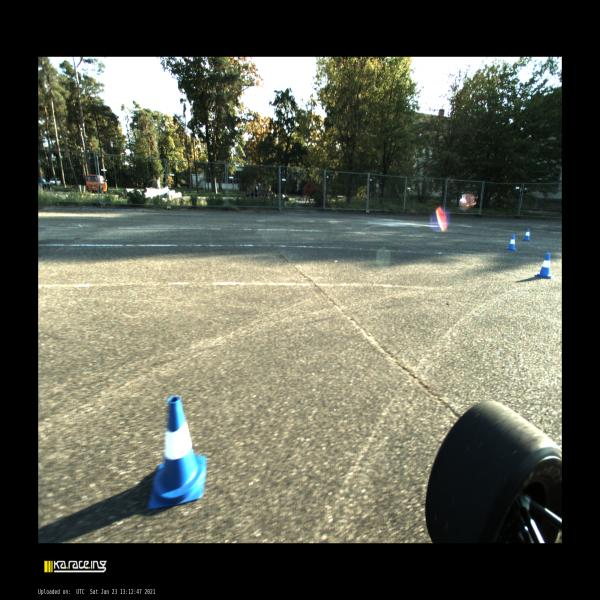blue_cone: (147, 395, 206, 510), (534, 252, 554, 279), (505, 233, 517, 251), (521, 227, 531, 242)
